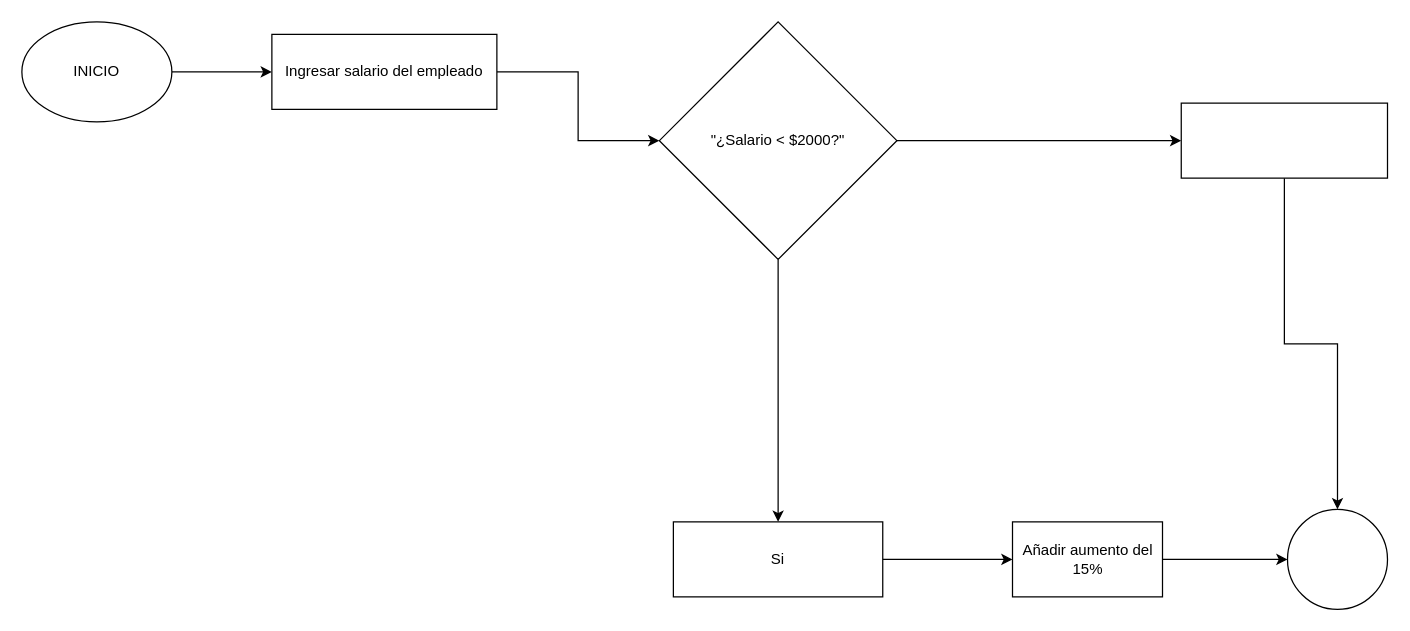
The diagram is 1410 pixels wide and 631 high, and some of its shapes have lost their labels. The shapes that lost their labels are listed below. From the top down, each one's box as (x1, y1, x2, y2) in pixels, then its label:
(1180, 102, 1388, 178): No
(1286, 508, 1388, 609): FIN
